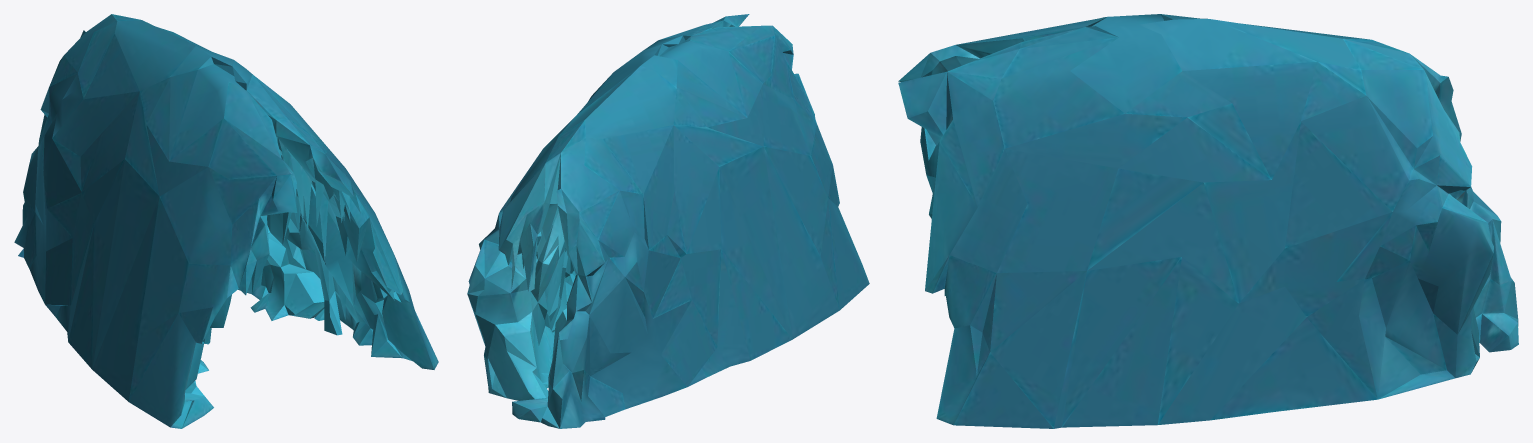
File: icecave.glb
3 renders of one model, left to right at view 1: azimuth 30°, elevation 25°; view 2: azimuth 150°, elevation 25°; view 3: azimuth 270°, elevation 25°, orthographic. The views are drawn at different scales.
Size of the model in its own units: 1.18 by 1.1 by 1.9.
1 material, 1 textured.
